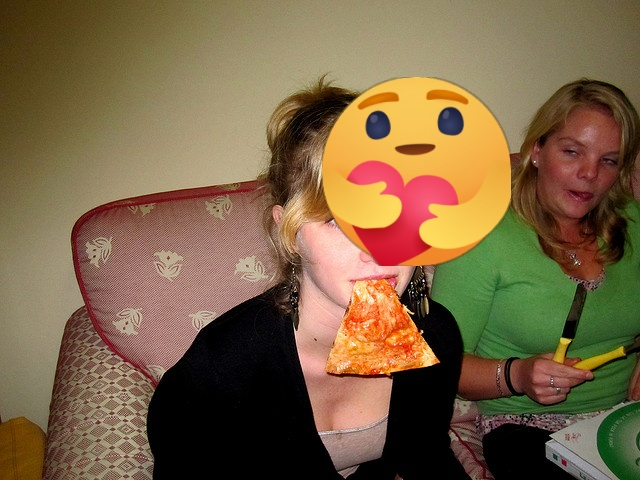care: (322, 77, 511, 266)
